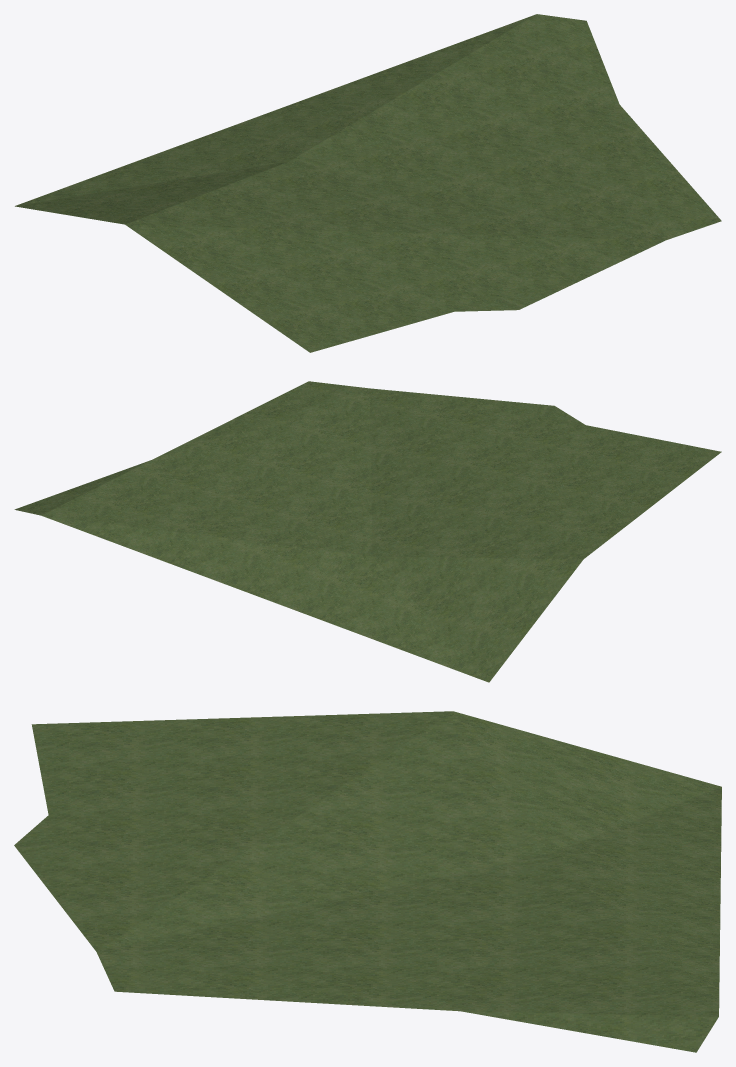
File: LODa_carisle_mid_landmass_02_06.fbx
3 renders of one model, top to bottom at view 1: azimuth 30°, elevation 25°; view 2: azimuth 150°, elevation 25°; view 3: azimuth 270°, elevation 25°, orthographic. The views are drawn at different scales.
Visible parts, largest first — view 1: LODa_carisle_mid_landmass_02_06; view 2: LODa_carisle_mid_landmass_02_06; view 3: LODa_carisle_mid_landmass_02_06.
Boxes of the visible parts, <box> form: LODa_carisle_mid_landmass_02_06: <box>15,14,721,352</box>; LODa_carisle_mid_landmass_02_06: <box>14,381,721,682</box>; LODa_carisle_mid_landmass_02_06: <box>14,711,721,1052</box>.
Size of the model in its own units: 26.19 by 23.44 by 2.93.
